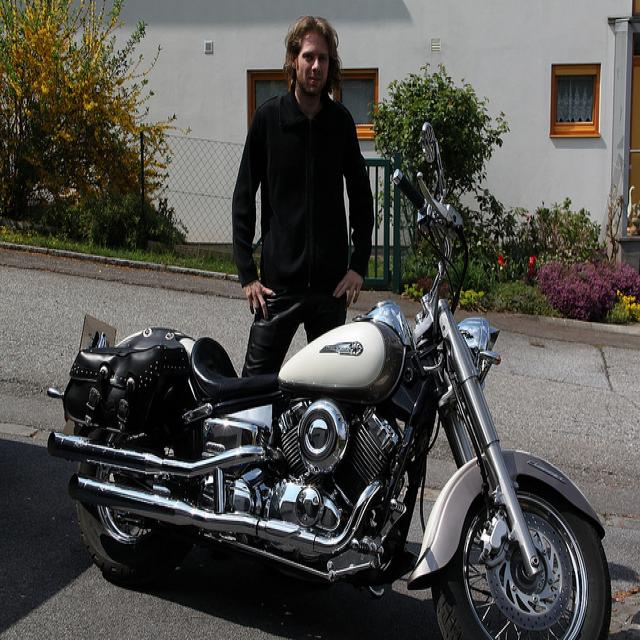motor: (44, 176, 608, 630)
